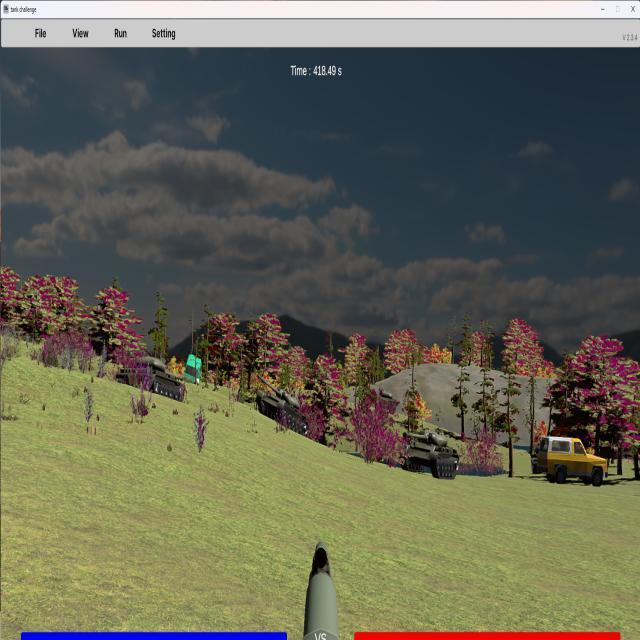Tank: (254, 374, 311, 436), (115, 356, 186, 401), (401, 429, 460, 479)
car: (531, 436, 607, 486)
